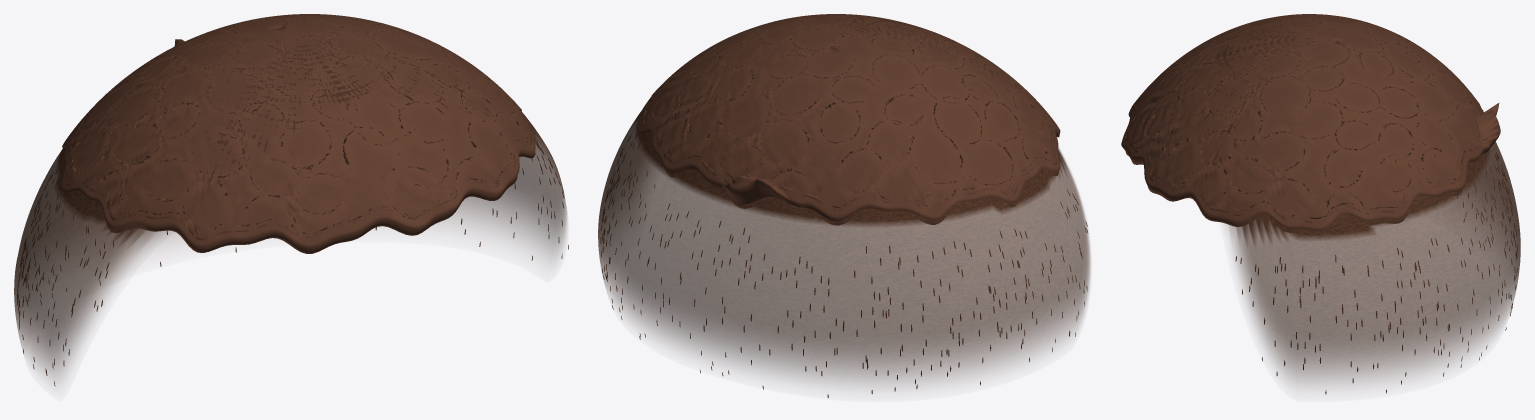
Rendered from Masculine-curly-top-cap251-hair.glb.
3 renders of one model, left to right at view 1: azimuth 30°, elevation 25°; view 2: azimuth 150°, elevation 25°; view 3: azimuth 270°, elevation 25°, orthographic. The views are drawn at different scales.
Parts seen in each view (by area): view 1: 226 hair / Hair / sculpted curly crown251.001, 226 hair / Hair / clipped grain251.001, 226 hair / Hair / close cut strokes251.001; view 2: 226 hair / Hair / clipped grain251.001, 226 hair / Hair / sculpted curly crown251.001, 226 hair / Hair / close cut strokes251.001; view 3: 226 hair / Hair / sculpted curly crown251.001, 226 hair / Hair / clipped grain251.001, 226 hair / Hair / close cut strokes251.001.
Boxes of the visible parts, bbox=[...] form: 226 hair / Hair / sculpted curly crown251.001: bbox=[61, 14, 535, 253]; 226 hair / Hair / clipped grain251.001: bbox=[14, 28, 567, 381]; 226 hair / Hair / close cut strokes251.001: bbox=[17, 139, 568, 385]; 226 hair / Hair / clipped grain251.001: bbox=[598, 14, 1090, 386]; 226 hair / Hair / sculpted curly crown251.001: bbox=[637, 14, 1060, 225]; 226 hair / Hair / close cut strokes251.001: bbox=[601, 134, 1088, 397]; 226 hair / Hair / sculpted curly crown251.001: bbox=[1121, 14, 1500, 231]; 226 hair / Hair / clipped grain251.001: bbox=[1203, 17, 1520, 386]; 226 hair / Hair / close cut strokes251.001: bbox=[1235, 152, 1517, 394].
Bounding box in the file's own units: 0.9812 × 0.5824 × 0.7749.
3 materials, 1 textured.
